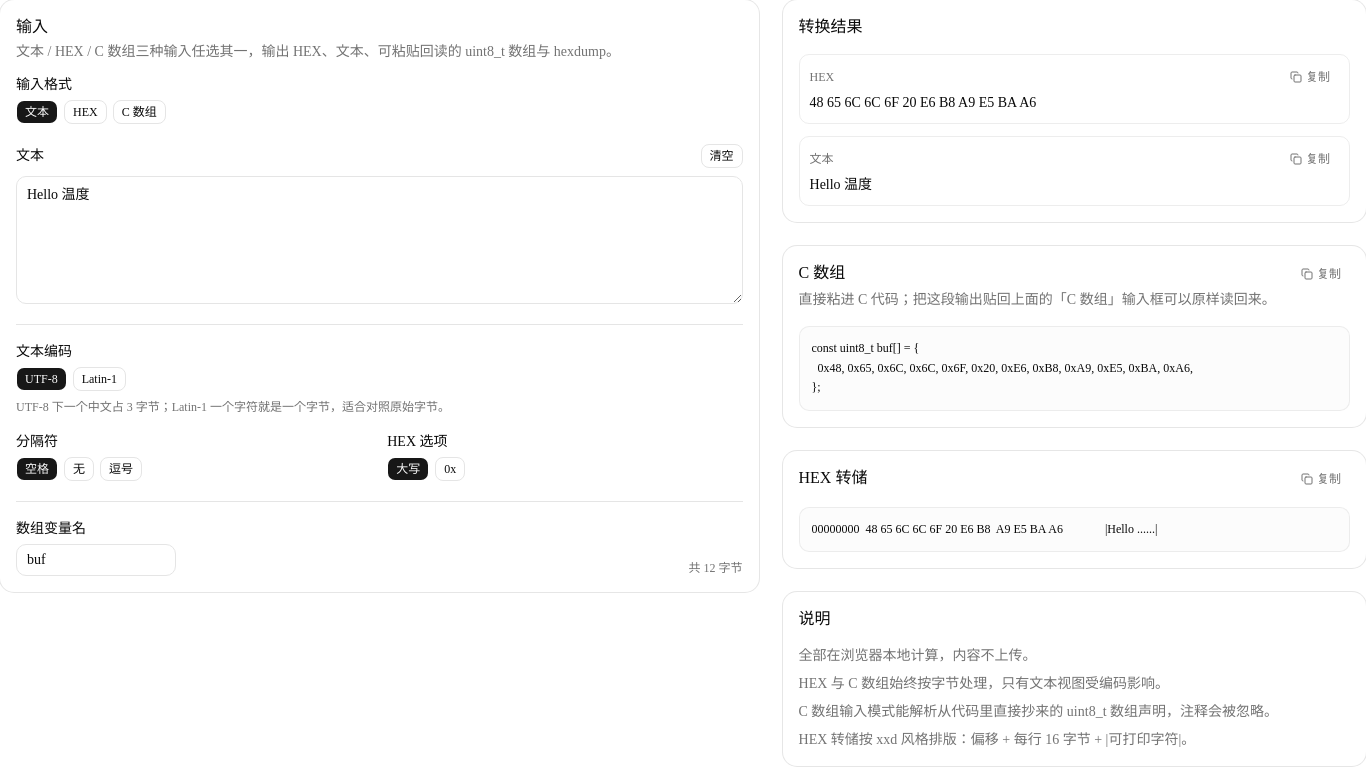
Test: hexAscii · HEX → 文本 › 奇数长度报错
The width and height of the screenshot is (1366, 768).
Click the button "HEX".
click(85, 112)  # box x1=64 y1=100 x2=107 y2=124
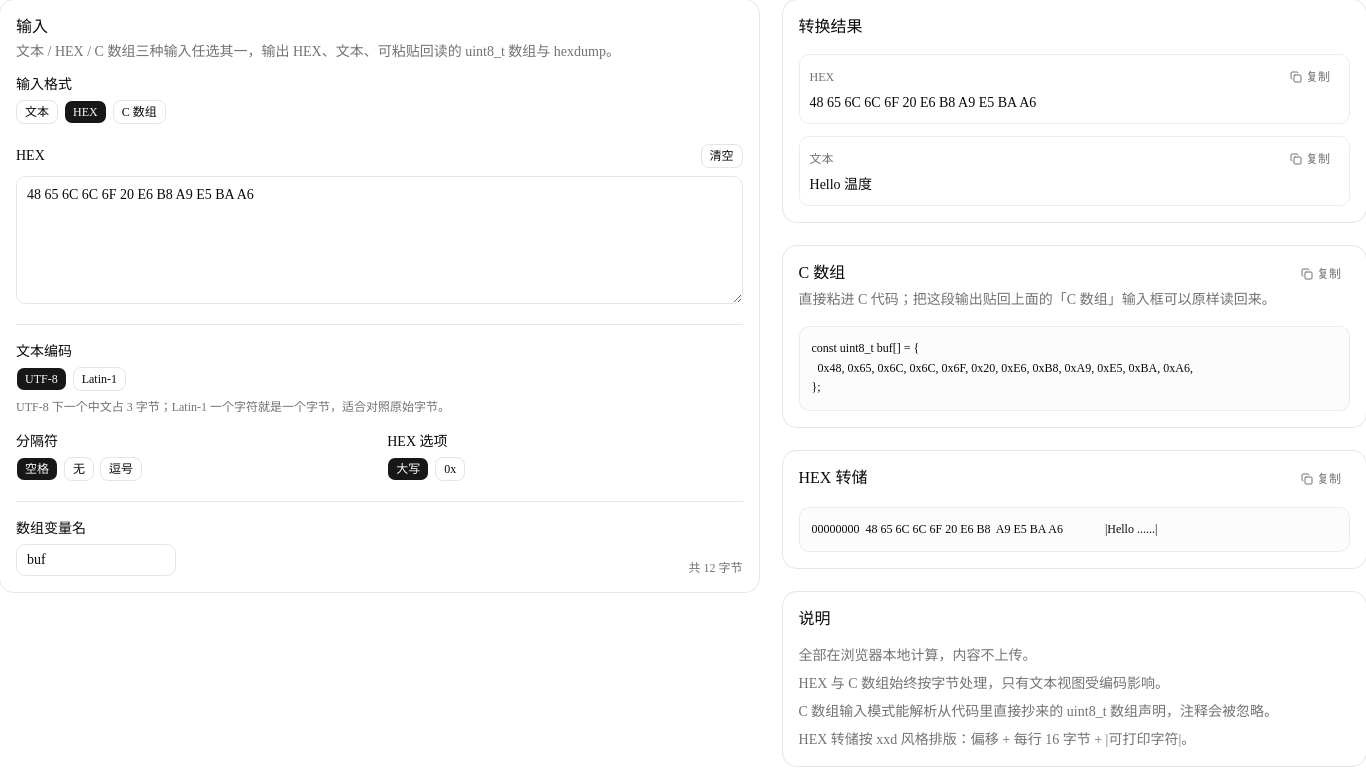
Replace the text in the text box with id "hexascii-input" with "ABC" at (379, 240), box x1=16 y1=176 x2=742 y2=304
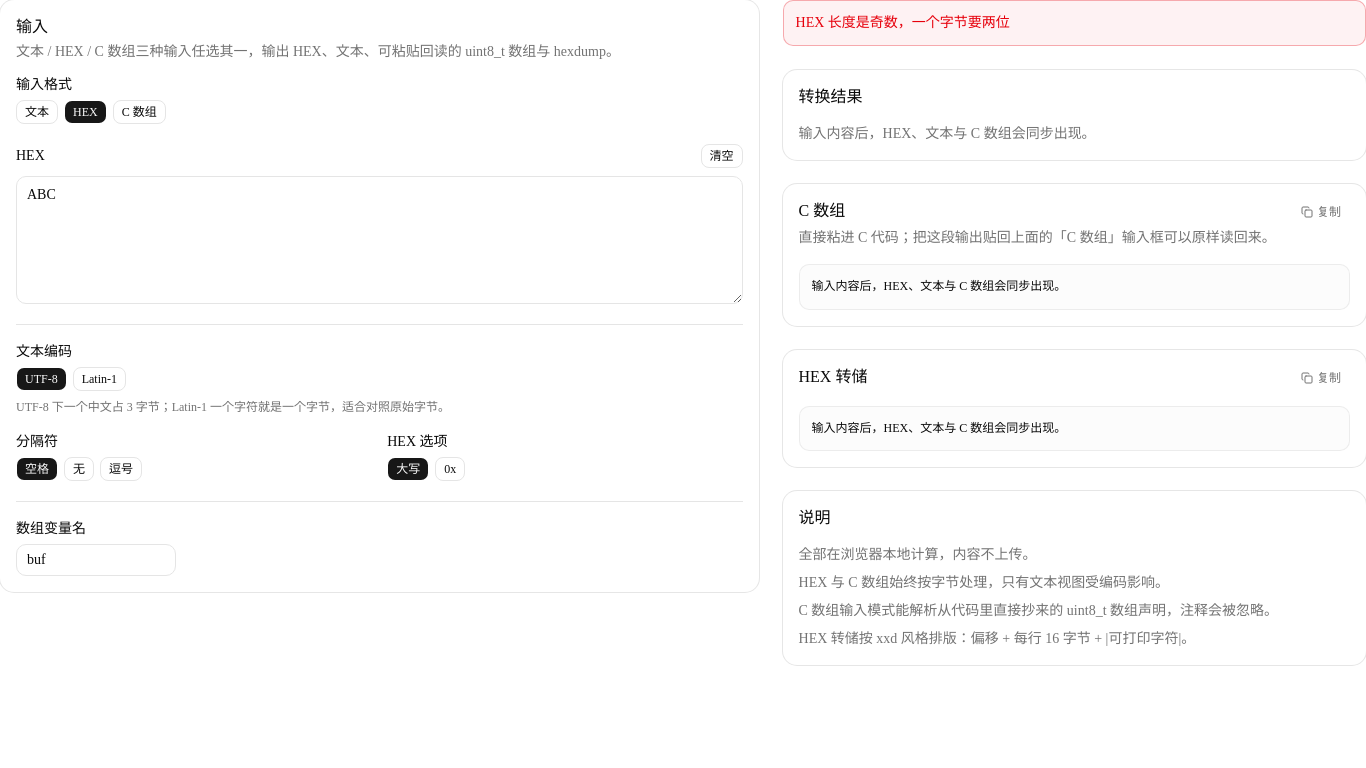
Expected: the text "HEX 长度是奇数，一个字节要两位" is shown, x1=782 y1=0 x2=1365 y2=46
